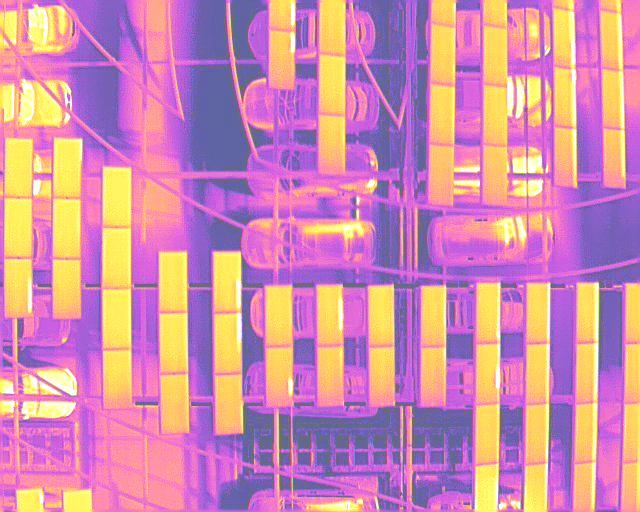Cell: (476, 282, 500, 342)
No-Anomaly: (159, 375, 191, 434), (53, 138, 84, 198), (102, 166, 132, 227), (215, 375, 245, 436), (159, 312, 189, 373), (103, 349, 133, 409), (318, 53, 346, 117), (4, 197, 33, 258), (103, 288, 132, 349), (318, 113, 346, 176), (53, 259, 82, 319), (103, 228, 132, 288), (159, 252, 188, 312), (5, 138, 34, 197), (265, 285, 293, 346), (53, 198, 81, 259), (428, 143, 454, 208), (483, 24, 509, 88), (431, 22, 457, 86), (317, 346, 344, 407), (369, 346, 395, 409), (318, 0, 347, 56), (368, 286, 395, 346), (482, 145, 508, 206), (429, 83, 454, 146), (573, 402, 599, 462), (421, 347, 446, 409), (603, 126, 627, 189), (475, 404, 500, 464), (421, 287, 446, 347), (483, 85, 507, 145), (526, 284, 550, 344), (576, 344, 600, 403), (601, 9, 623, 71), (577, 284, 600, 343), (602, 69, 624, 129), (527, 344, 549, 404), (527, 405, 549, 464), (572, 462, 597, 512), (475, 463, 500, 512), (525, 464, 549, 512)
Unclassified: (213, 253, 243, 312), (5, 258, 35, 317), (267, 30, 296, 91), (214, 313, 243, 374), (265, 346, 293, 409), (317, 286, 344, 346), (476, 343, 500, 404), (555, 125, 578, 188), (555, 66, 577, 128), (555, 8, 576, 69)
